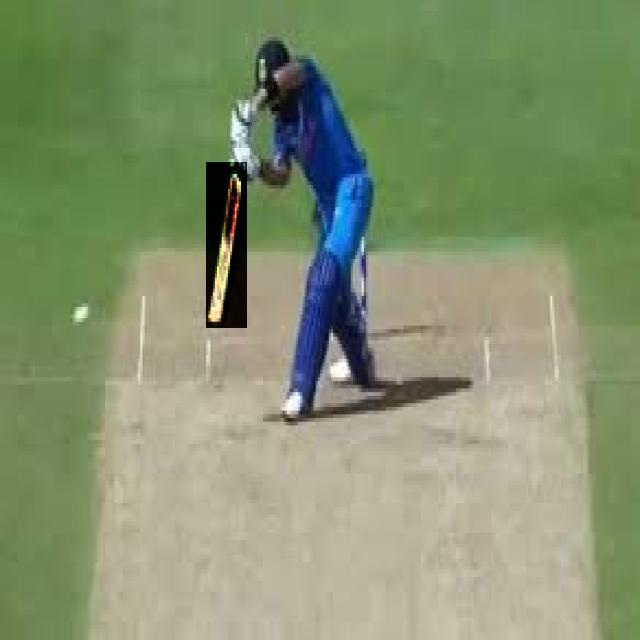bat: (207, 161, 245, 330)
toe: (201, 314, 225, 326)
